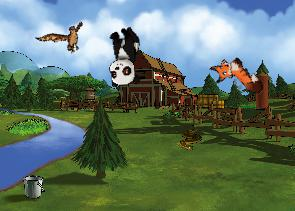eagle: (35, 9, 94, 66)
fox: (206, 47, 266, 109)
panda: (106, 26, 141, 87)
